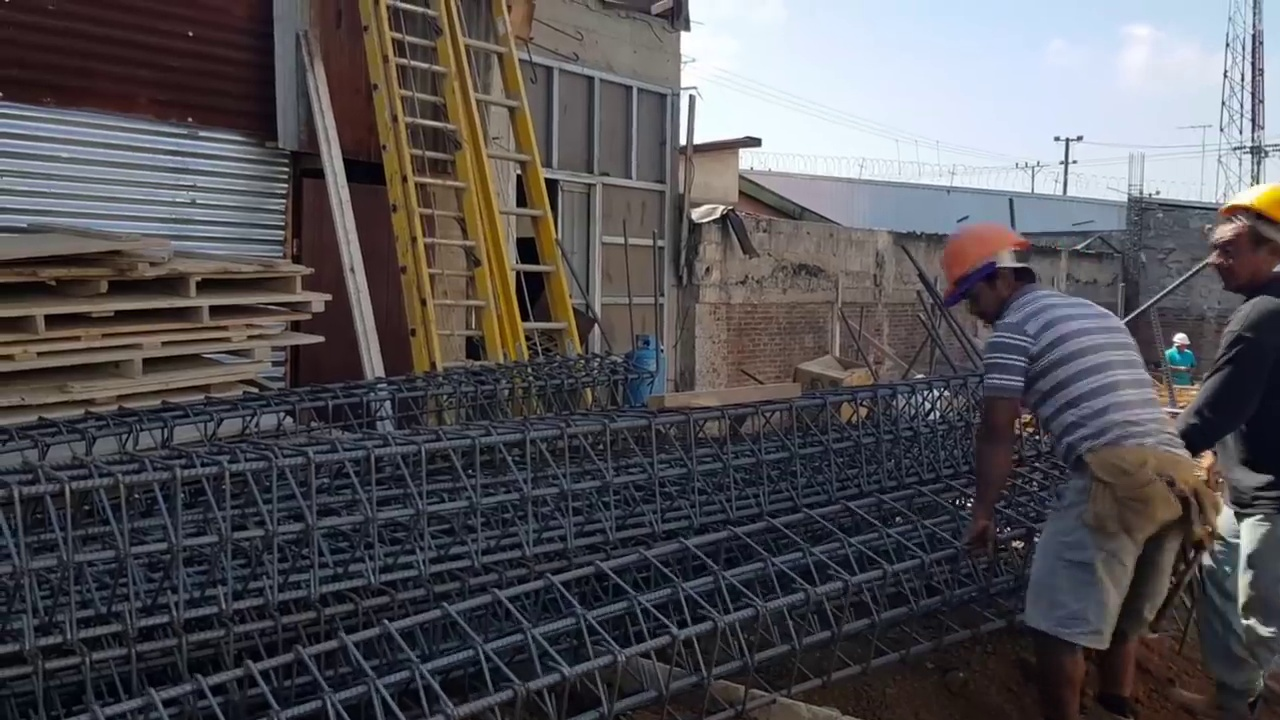helmet: (946, 219, 1028, 302), (1217, 178, 1280, 229), (1173, 333, 1191, 347)
helmet-on: (939, 200, 1046, 334), (1211, 178, 1280, 310), (1172, 333, 1192, 353)
person: (940, 204, 1215, 711), (1195, 171, 1278, 705), (1165, 332, 1197, 394)
